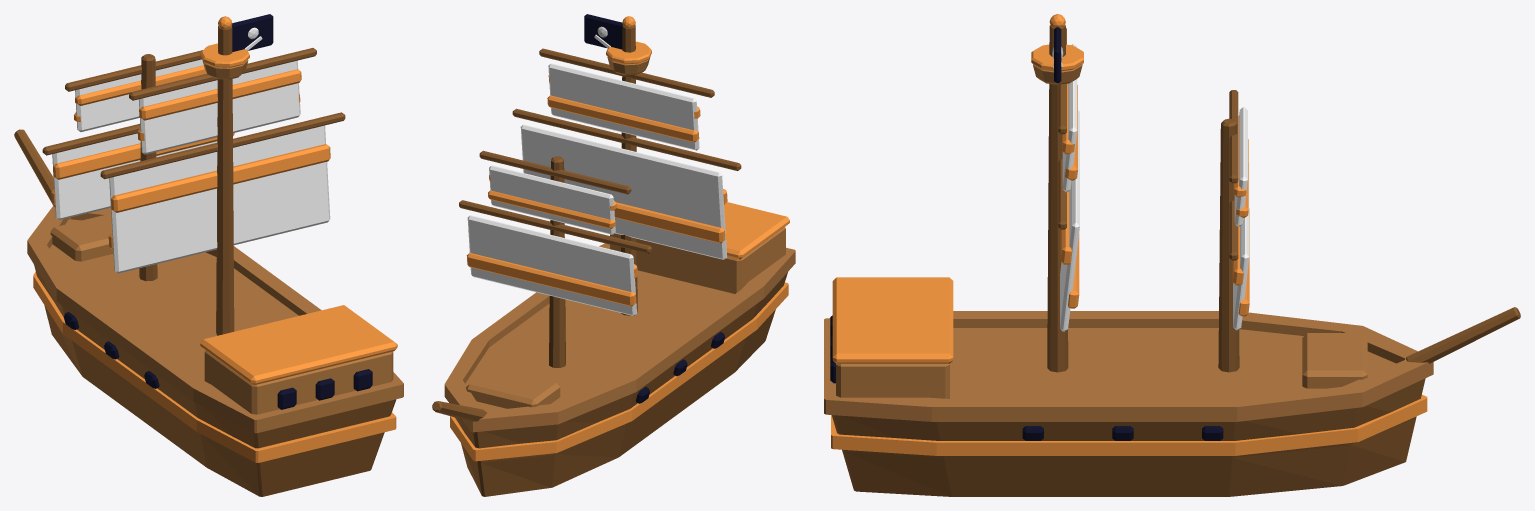
File: Prop_pirate_harbor_PirateShip.glb
3 views of the same model, side by side, from view 1: azimuth 30°, elevation 25°; view 2: azimuth 150°, elevation 25°; view 3: azimuth 270°, elevation 25° (orthographic). The views are drawn at different scales.
Parts seen in each view (by area): view 1: Deck_B5793F, Sail_FFFFFF, Hull_8A5A2B, HarborOrange_FF9A3D, Ink_0D0F2B; view 2: Deck_B5793F, Sail_FFFFFF, Hull_8A5A2B, HarborOrange_FF9A3D, Ink_0D0F2B; view 3: Deck_B5793F, Hull_8A5A2B, HarborOrange_FF9A3D, Sail_FFFFFF, Ink_0D0F2B.
Part boxes in pixels (x1=…): Deck_B5793F: x1=27, y1=60, x2=403, y2=433; Sail_FFFFFF: x1=52, y1=27, x2=330, y2=273; Hull_8A5A2B: x1=14, y1=26, x2=396, y2=496; HarborOrange_FF9A3D: x1=33, y1=16, x2=397, y2=462; Ink_0D0F2B: x1=64, y1=14, x2=372, y2=409; Deck_B5793F: x1=444, y1=56, x2=795, y2=432; Sail_FFFFFF: x1=467, y1=26, x2=727, y2=315; Hull_8A5A2B: x1=432, y1=25, x2=787, y2=496; HarborOrange_FF9A3D: x1=450, y1=16, x2=789, y2=461; Ink_0D0F2B: x1=584, y1=14, x2=724, y2=403; Deck_B5793F: x1=824, y1=64, x2=1433, y2=421; Hull_8A5A2B: x1=832, y1=25, x2=1520, y2=496; HarborOrange_FF9A3D: x1=831, y1=14, x2=1427, y2=455; Sail_FFFFFF: x1=1052, y1=44, x2=1249, y2=331; Ink_0D0F2B: x1=830, y1=27, x2=1223, y2=440.
Bounding box in the file's own units: 19.2 × 30.2 × 42.72.
